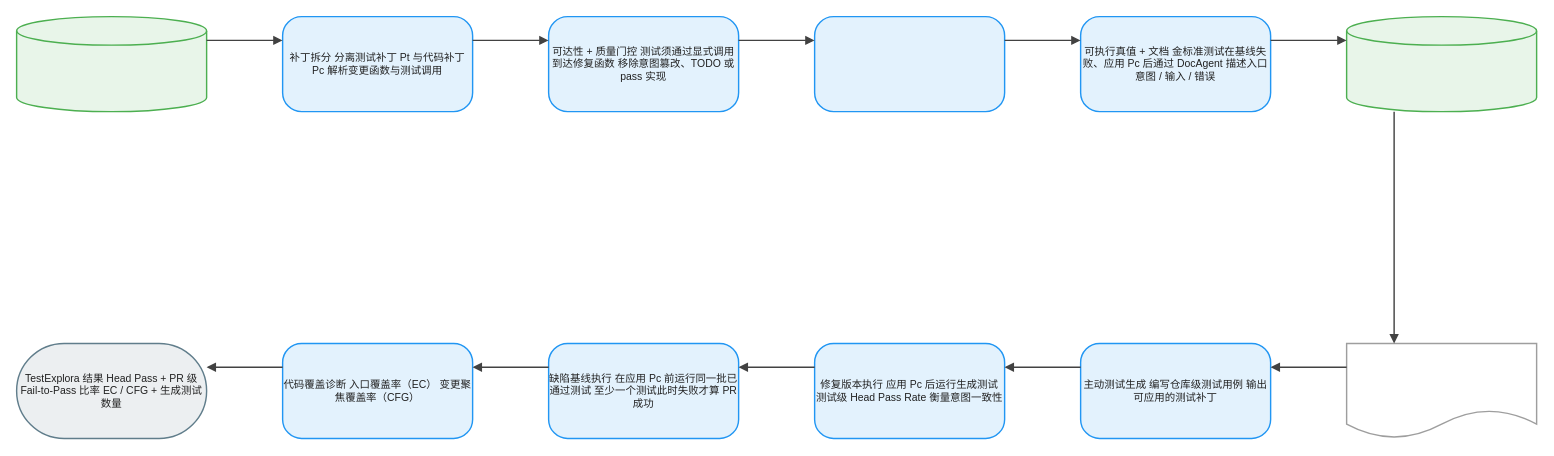
The diagram is 1554 pixels wide and 456 high, and some of its shapes have lost their labels. Here are the shapes that lost their labels. From the top down, the centre of each, then its label:
[111,63]: 高质量 GitHub 来源 仅选星标超过 1,000 的仓库 抓取 12,227 个 Issue-PR 补丁
[909,63]: 自动构建环境 GitHub Actions Runner 镜像 + 系统工具链 合并依赖；Poetry / PDM / pip 安装
[1441,63]: TestExplora 发布集 1,552 个 PR / 2,389 个任务 / 482 个仓库 Lite：330 个 PR / 517 个任务
[1441,390]: 白盒或黑盒输入 两种场景始终提供文档 白盒：实现 + 依赖；黑盒：函数签名
